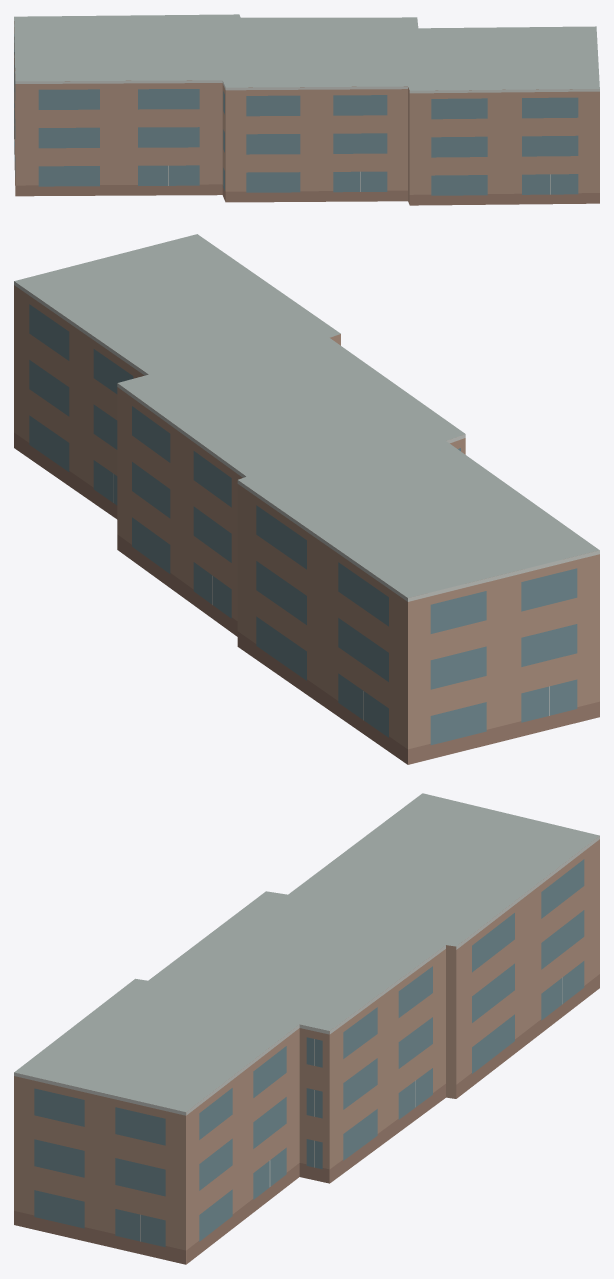
Rendered from survey-upis-32842788.glb.
3 views of the same model, one above another, from view 1: azimuth 30°, elevation 25°; view 2: azimuth 150°, elevation 25°; view 3: azimuth 270°, elevation 25° (orthographic). The views are drawn at different scales.
Visible parts, largest first — view 1: survey-upis-32842788.tmp; view 2: survey-upis-32842788.tmp; view 3: survey-upis-32842788.tmp.
Boxes of the visible parts, x1,y1,x2,y2 form: survey-upis-32842788.tmp: (14,14,599,205); survey-upis-32842788.tmp: (14,234,599,764); survey-upis-32842788.tmp: (14,793,599,1264).
Bounding box in the file's own units: 47.11 × 10.5 × 36.56.
